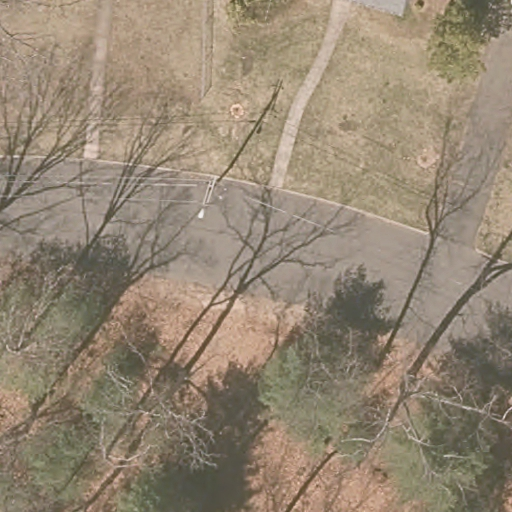DT: (196, 167, 228, 220)
